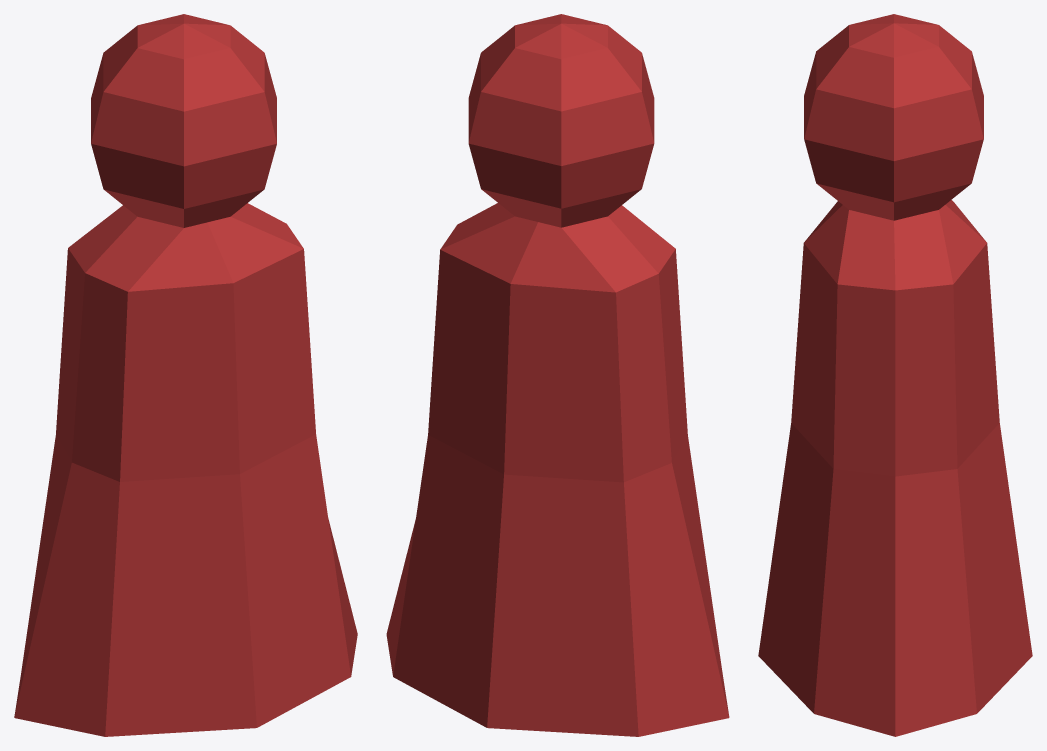
File: char_ghost.fbx
3 views of the same model, side by side, from view 1: azimuth 30°, elevation 25°; view 2: azimuth 150°, elevation 25°; view 3: azimuth 270°, elevation 25° (orthographic). The views are drawn at different scales.
Visible parts, largest first — view 1: pCube218; view 2: pCube218; view 3: pCube218.
Boxes of the visible parts, x1,y1,x2,y2 form: pCube218: (14, 14, 357, 736); pCube218: (386, 14, 729, 736); pCube218: (758, 14, 1032, 736).
Size of the model in its own units: 1.4 by 2.54 by 1.
